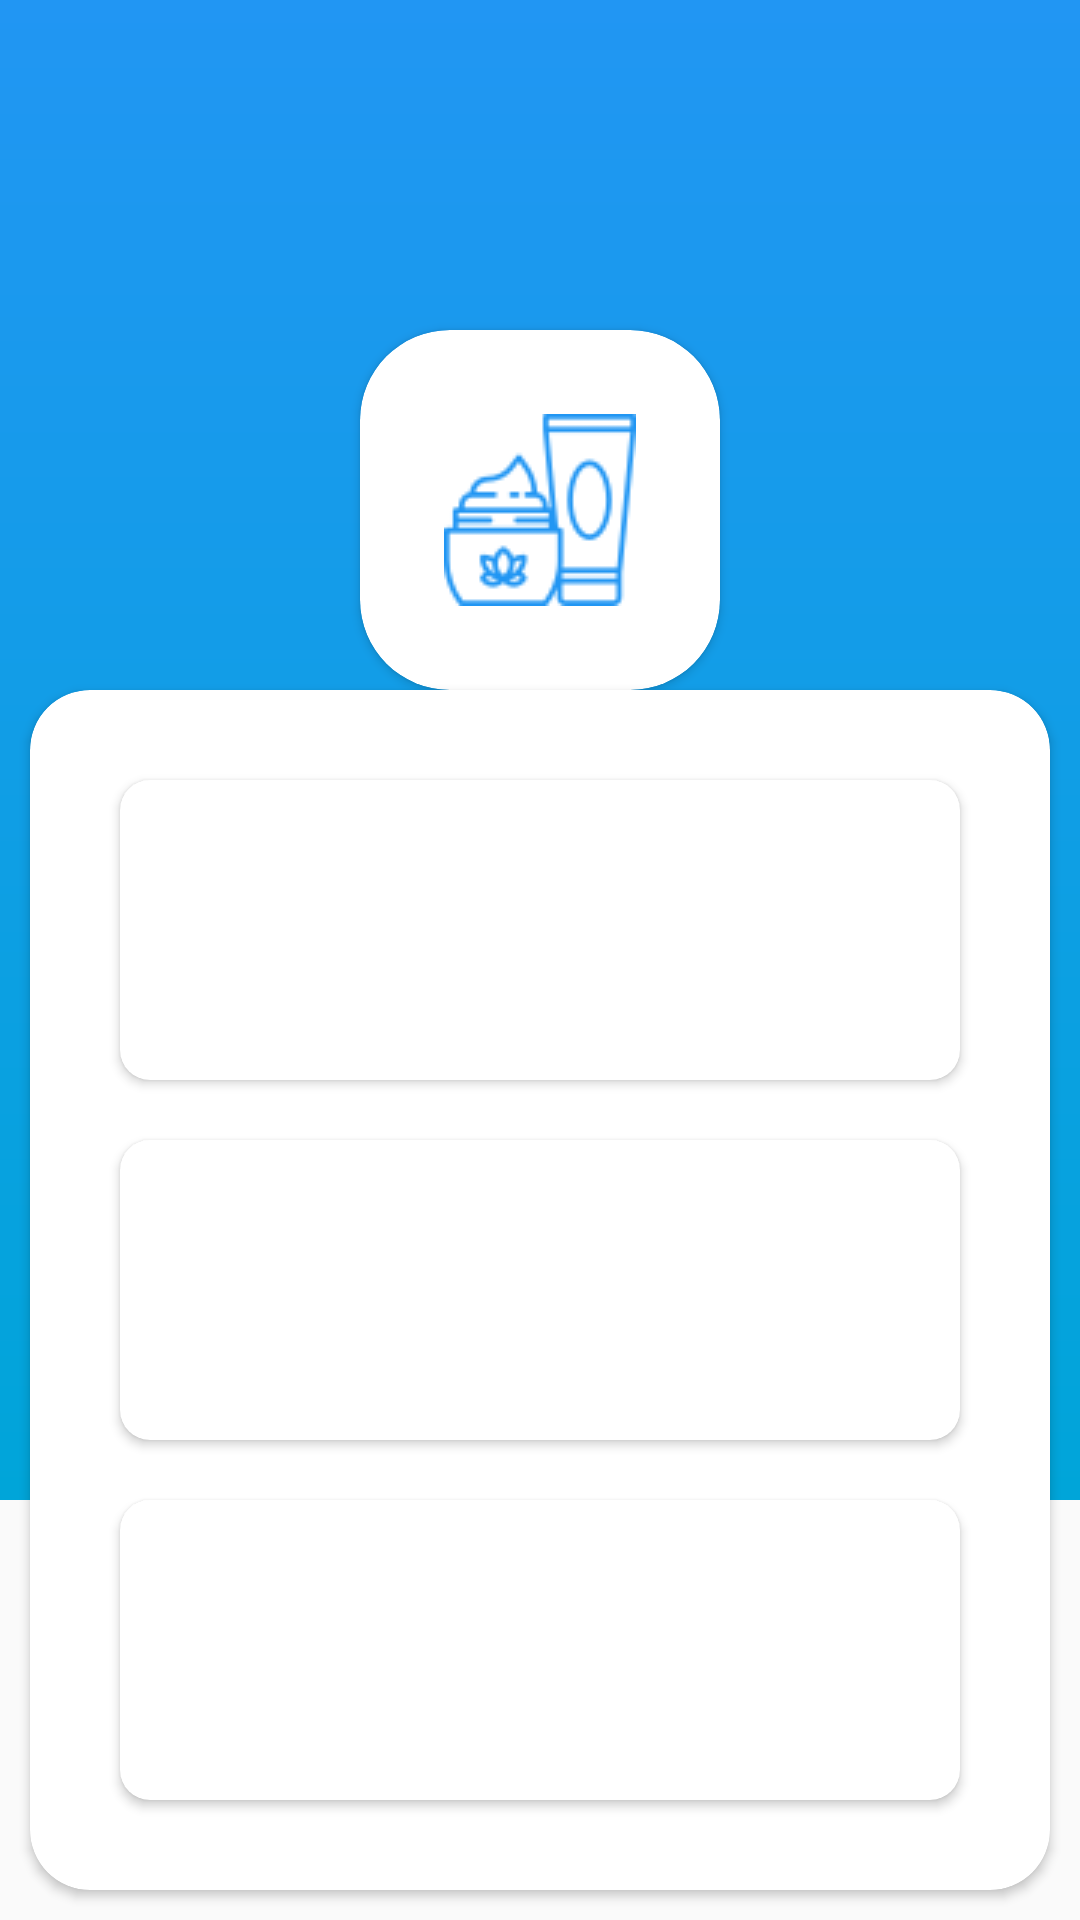

Icons on this 1080*1920 Android screen, each with the point to tap as [x,y]:
cream: [540,510]
